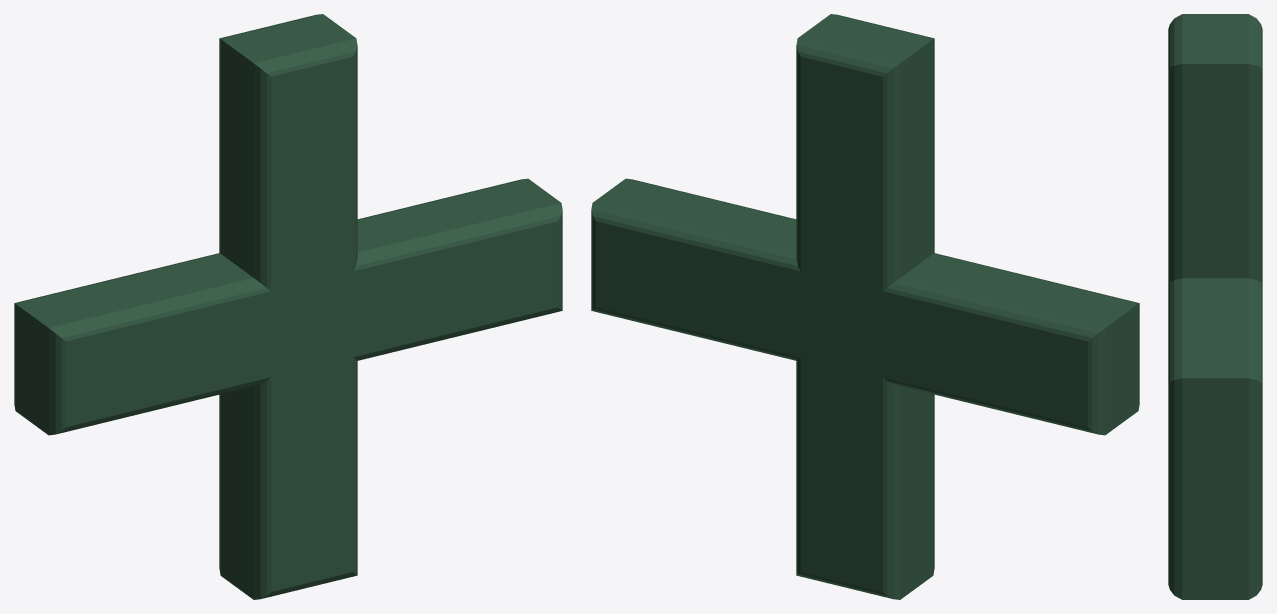
3 views of the same model, side by side, from view 1: azimuth 30°, elevation 25°; view 2: azimuth 150°, elevation 25°; view 3: azimuth 270°, elevation 25° (orthographic).
Visible parts, largest first — view 1: Simple_Kryss_0; view 2: Simple_Kryss_0; view 3: Simple_Kryss_0.
Part boxes in pixels (box(x1,y1,x2,y2)): Simple_Kryss_0: box(14, 14, 562, 599); Simple_Kryss_0: box(591, 14, 1139, 599); Simple_Kryss_0: box(1168, 14, 1262, 599).
Size of the model in its own units: 0.25 by 0.25 by 0.04.
